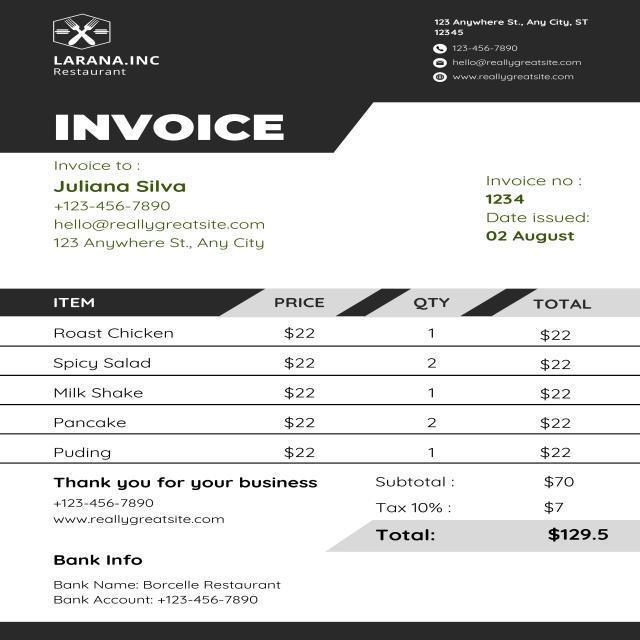ROI: (35, 285, 632, 465), (29, 156, 276, 258), (357, 475, 628, 549), (43, 472, 330, 535), (46, 545, 294, 614), (430, 16, 613, 85), (45, 109, 293, 151), (483, 172, 602, 248), (49, 53, 172, 78)
